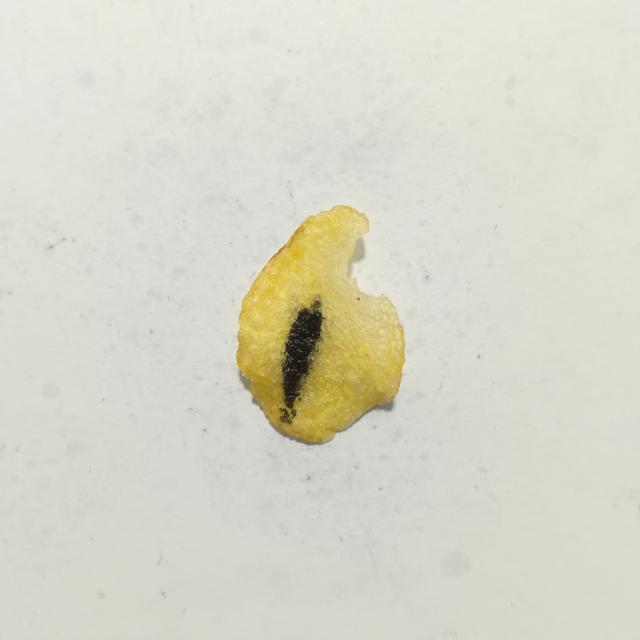chip: (237, 206, 405, 442)
damaged: (282, 300, 322, 417), (357, 297, 360, 301)
semi-damaged: (279, 408, 292, 424)
